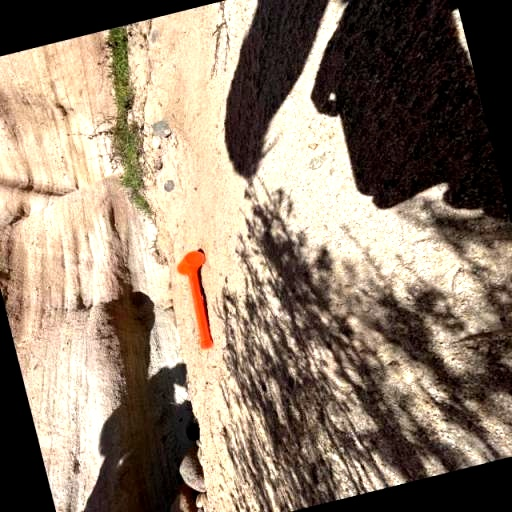mallet: (166, 242, 234, 355)
